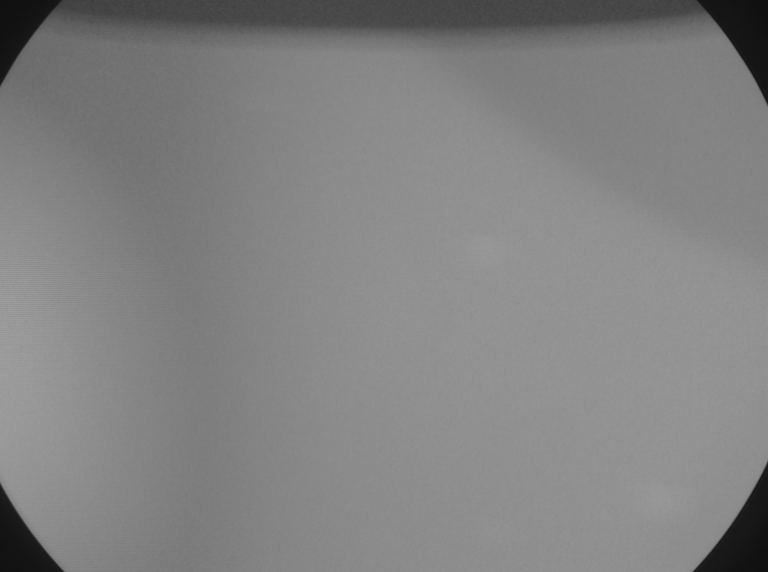defect: (621, 474, 676, 514)
